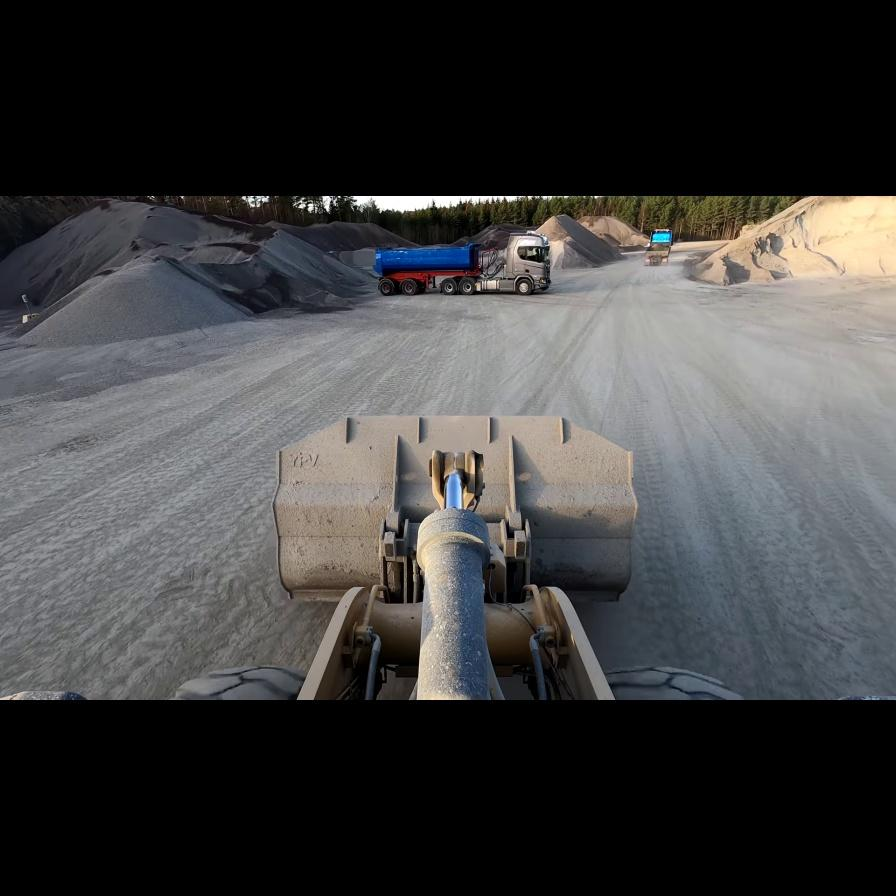anchor: (429, 449, 483, 510)
pile of gravel: (5, 200, 408, 342), (683, 195, 889, 287), (524, 214, 623, 272), (277, 220, 421, 254), (576, 214, 651, 248), (460, 222, 544, 251)
